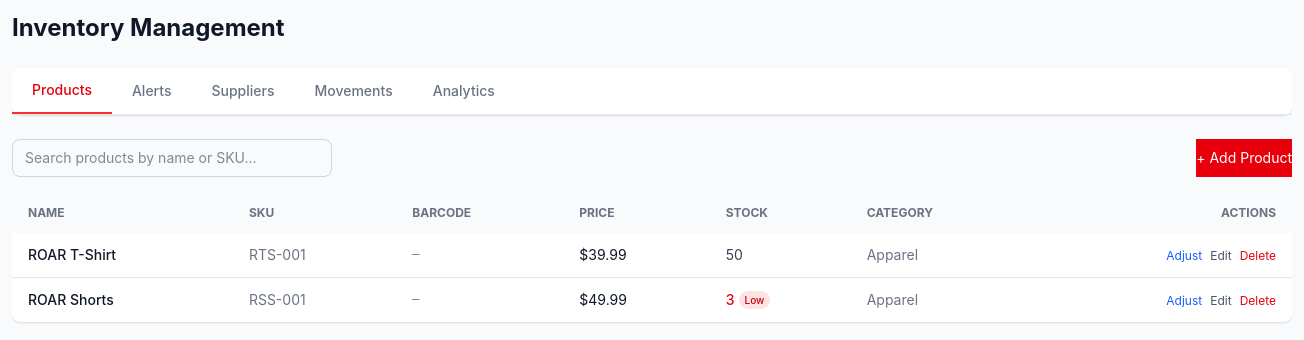
Scenario: InventoryManagement › StockMovements › shows product search and allows selection
Click the button "movements" at {"x": 354, "y": 91}, box left=294, top=68, right=413, bottom=114
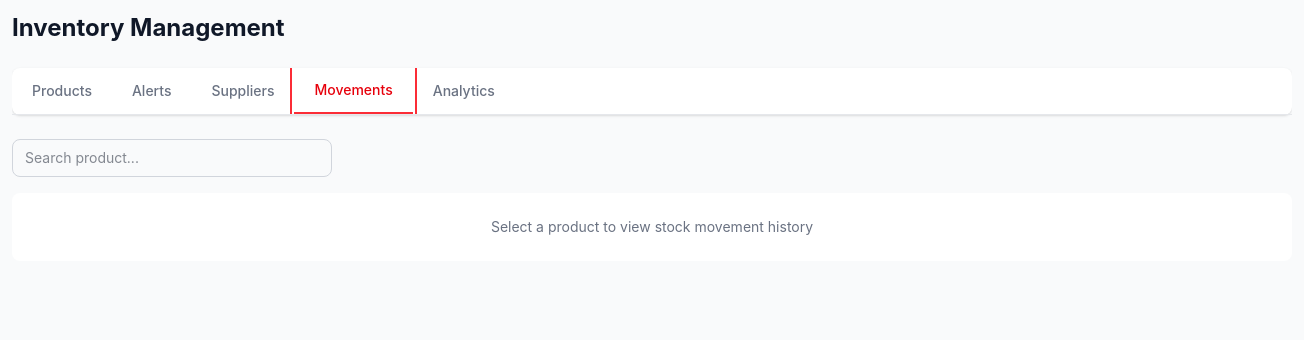
Check: the field named "Search product for movements" is shown
Type "T-Shirt" into the field named "Search product for movements" at {"x": 172, "y": 158}, box left=12, top=139, right=332, bottom=177
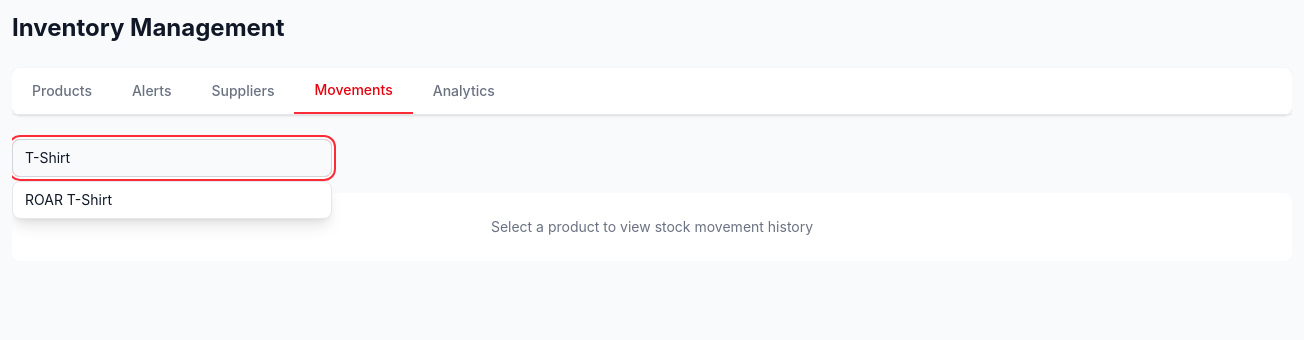
Check: the button "ROAR T-Shirt" is shown
Click the button "ROAR T-Shirt" at {"x": 69, "y": 200}, box left=13, top=182, right=331, bottom=218
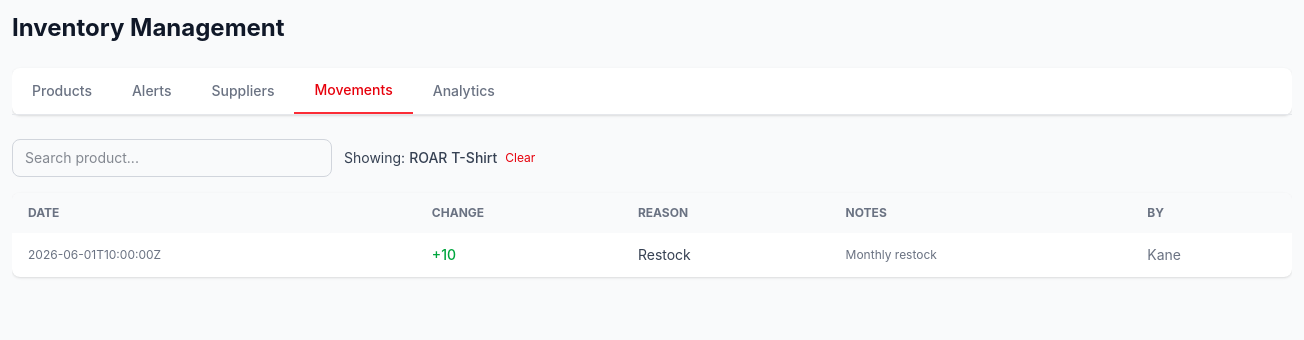
Check: the text "Showing: ROAR T-Shirt Clear" is shown, box left=344, top=149, right=535, bottom=166
